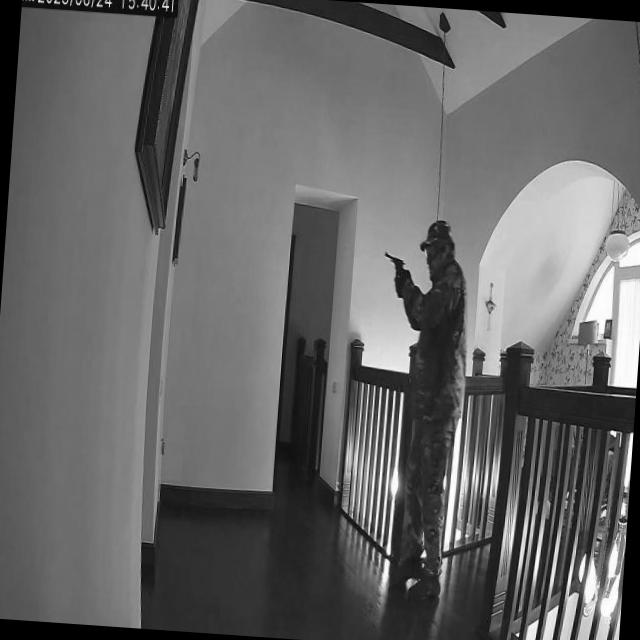gun: (382, 248, 408, 285)
person with a gun: (356, 214, 478, 607)
